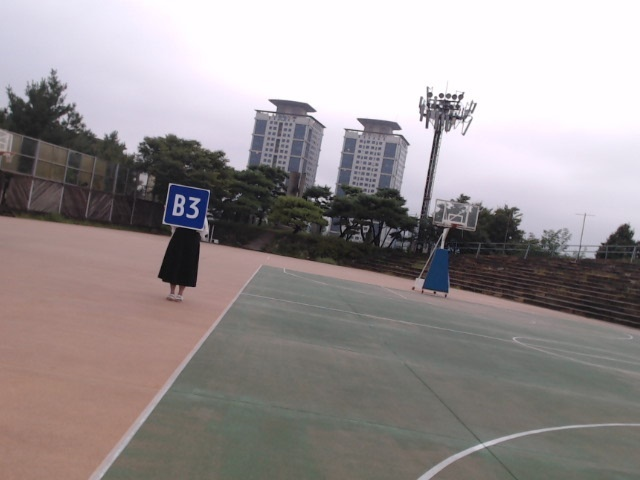delivery_b3: (164, 183, 210, 229)
